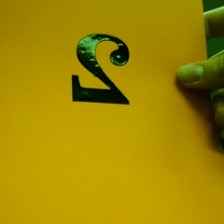orange2: (61, 30, 138, 108)
